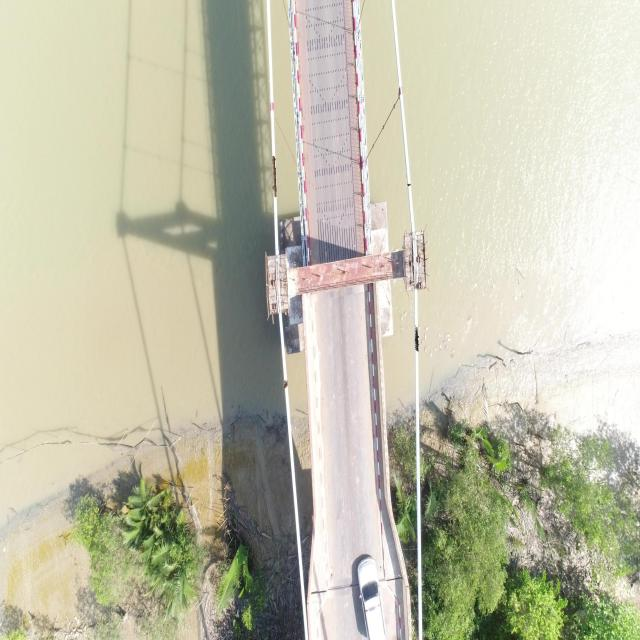corrosion: (272, 155, 277, 198), (415, 327, 419, 352), (283, 379, 288, 388), (407, 183, 411, 187)
